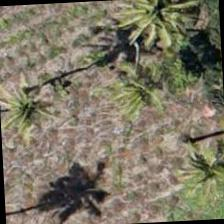Kelapa_Sawit: (91, 3, 186, 98), (149, 101, 223, 197), (0, 42, 72, 137), (105, 0, 198, 51)
